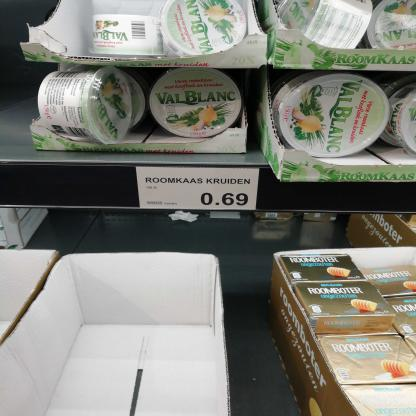prtg: (136, 167, 261, 211)
